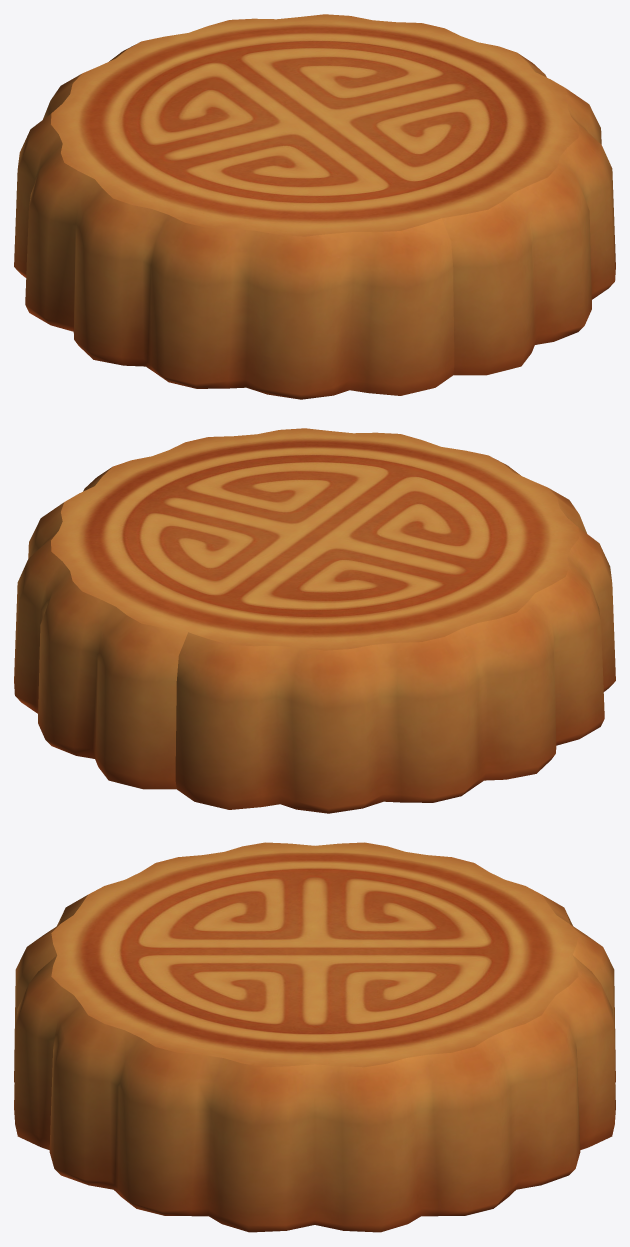
File: MoonCake_1.fbx
3 views of the same model, one above another, from view 1: azimuth 30°, elevation 25°; view 2: azimuth 150°, elevation 25°; view 3: azimuth 270°, elevation 25° (orthographic).
Parts seen in each view (by area): view 1: MoonCake_1; view 2: MoonCake_1; view 3: MoonCake_1.
Part boxes in pixels (x1,y1,x2,y2): MoonCake_1: (14, 14, 615, 399); MoonCake_1: (14, 428, 615, 813); MoonCake_1: (14, 842, 615, 1232).
Size of the model in its own units: 52.56 by 14.9 by 52.39.
1 material, 1 textured.
